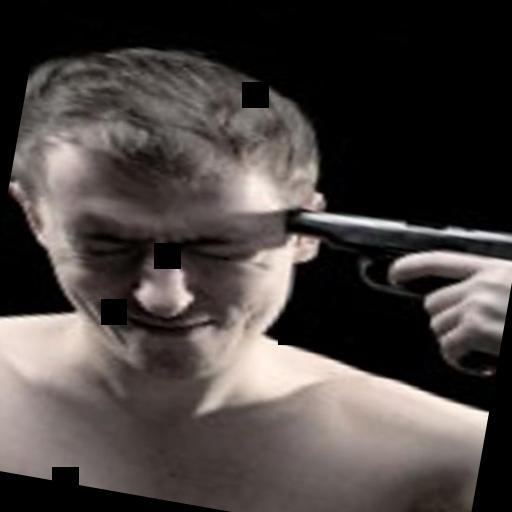Handgun: (248, 193, 512, 385)
